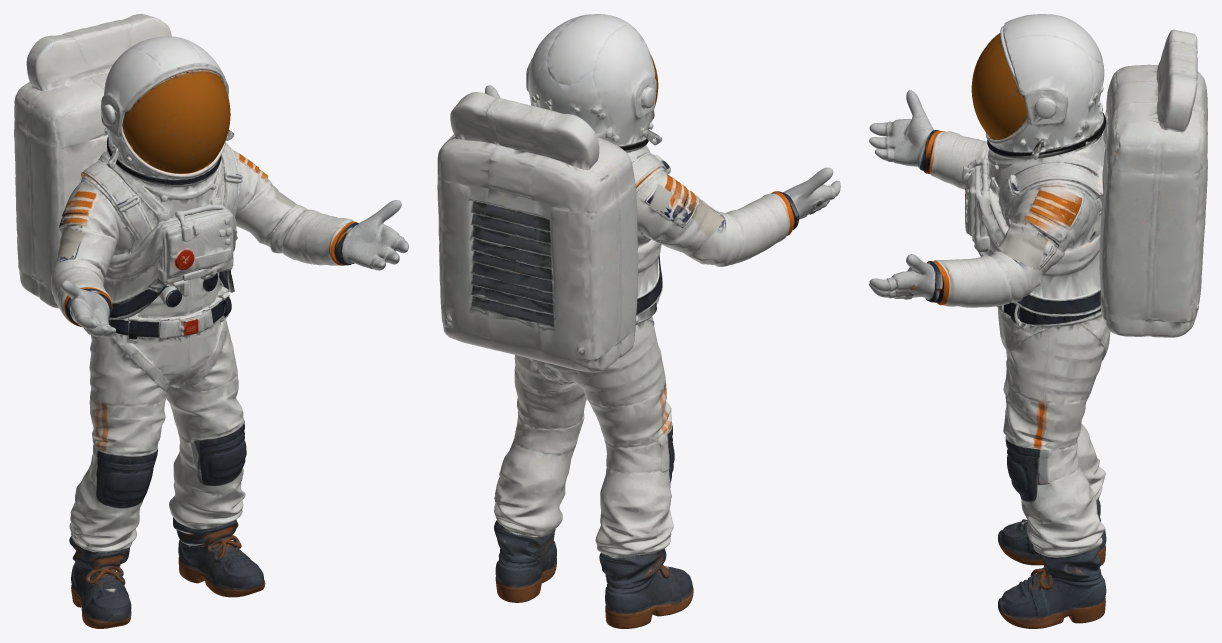
File: lunar_suit.glb
3 renders of one model, left to right at view 1: azimuth 30°, elevation 25°; view 2: azimuth 150°, elevation 25°; view 3: azimuth 270°, elevation 25°, orthographic. The views are drawn at different scales.
Parts seen in each view (by area): view 1: lunar_suit; view 2: lunar_suit; view 3: lunar_suit.
Boxes of the visible parts, x1,y1,x2,y2 form: lunar_suit: (14,14,408,628); lunar_suit: (437,14,840,628); lunar_suit: (869,14,1207,628).
Bounding box in the file's own units: 1.21 × 1.9 × 1.03.
1 material, 1 textured.
